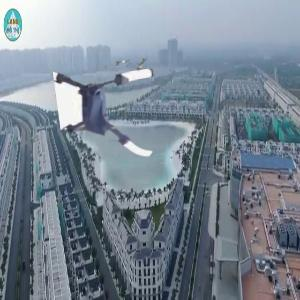drone: (60, 63, 165, 168)
